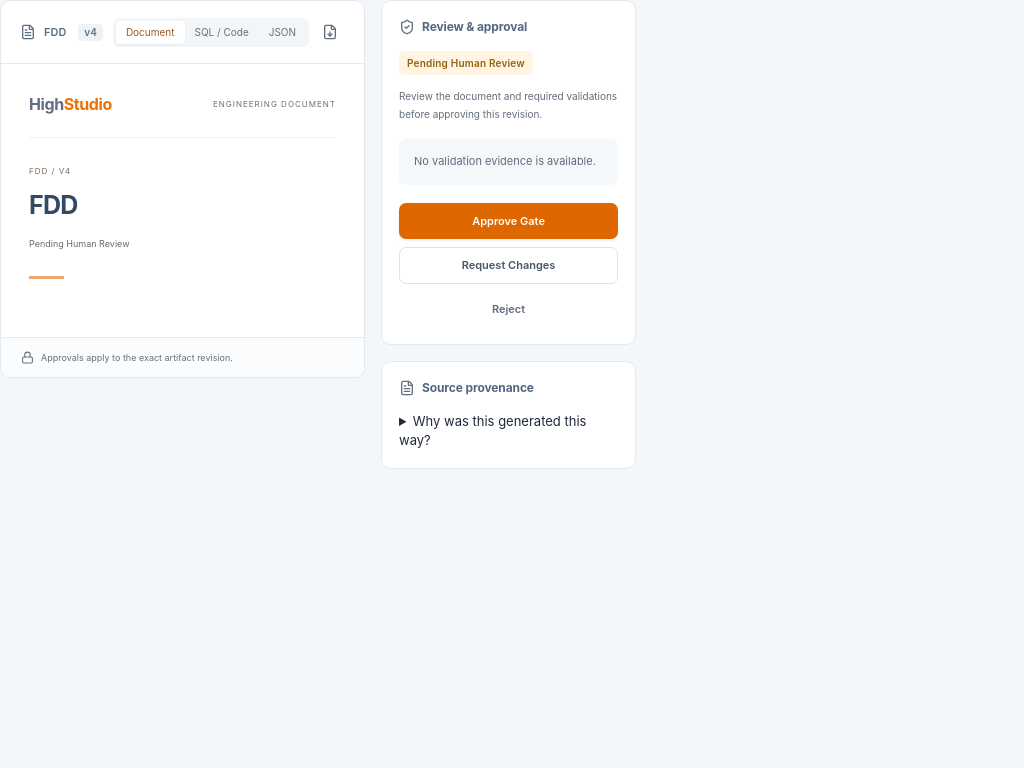
Test: Artifact Studio structured viewer › requires confirmation of the exact artifact revision before approval
Click the button "Approve Gate": (508,221) [399,203,618,239]
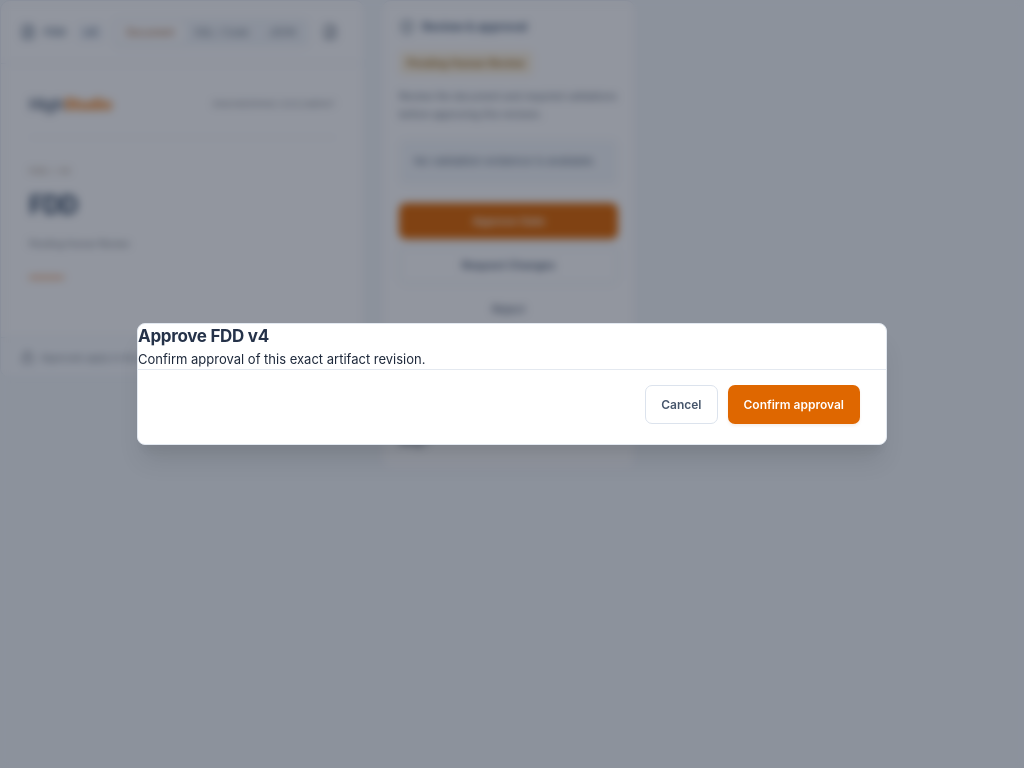
Expected: the dialog named "Approve artifact revision" shows "Approve FDD v4"
Click the button "Cancel": (681,404) [645,385,718,424]
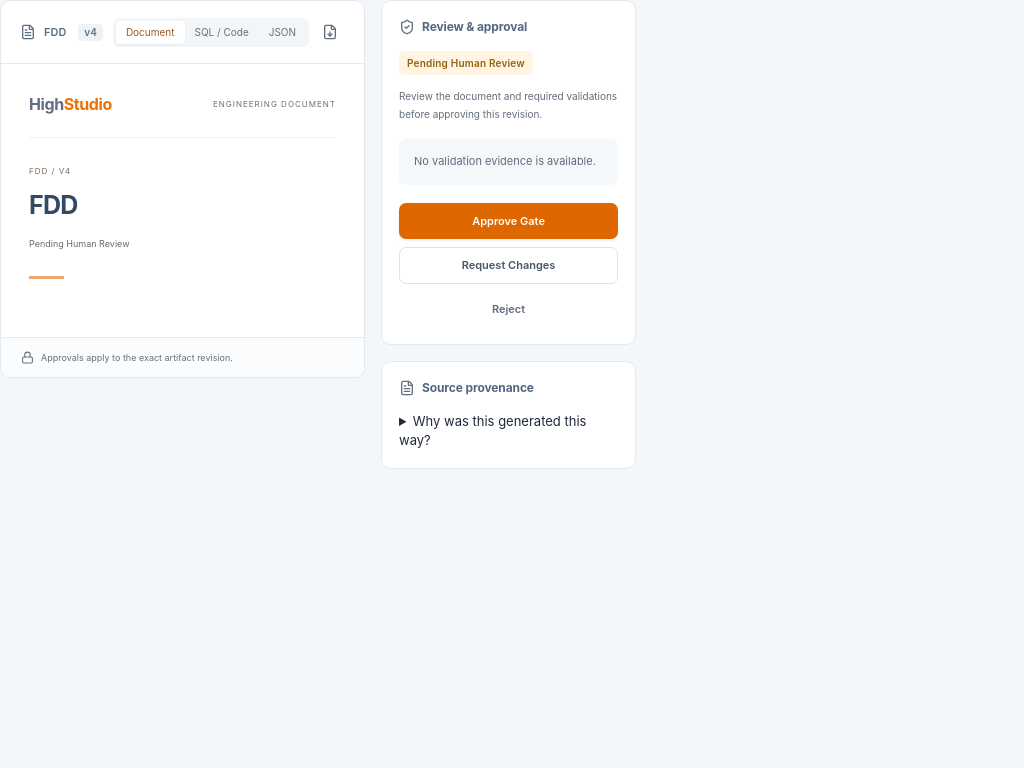
Expected: the dialog is gone
Click the button "Approve Gate": (508,221) [399,203,618,239]
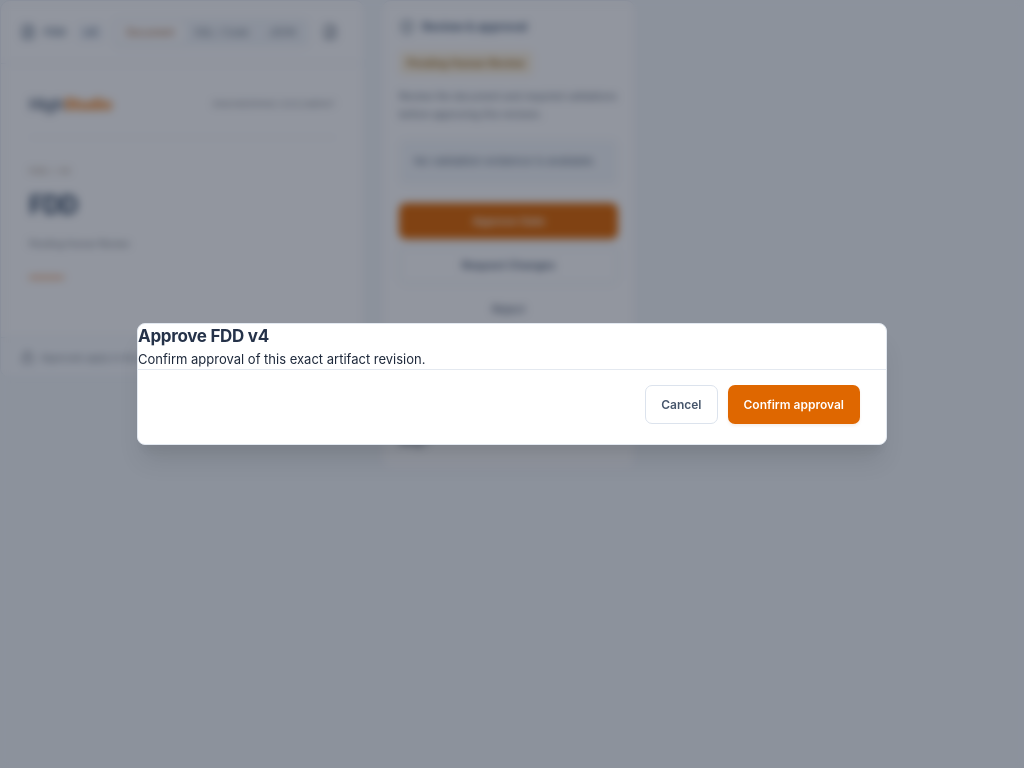
Click the button "Confirm approval": (794,404) [728,385,860,424]
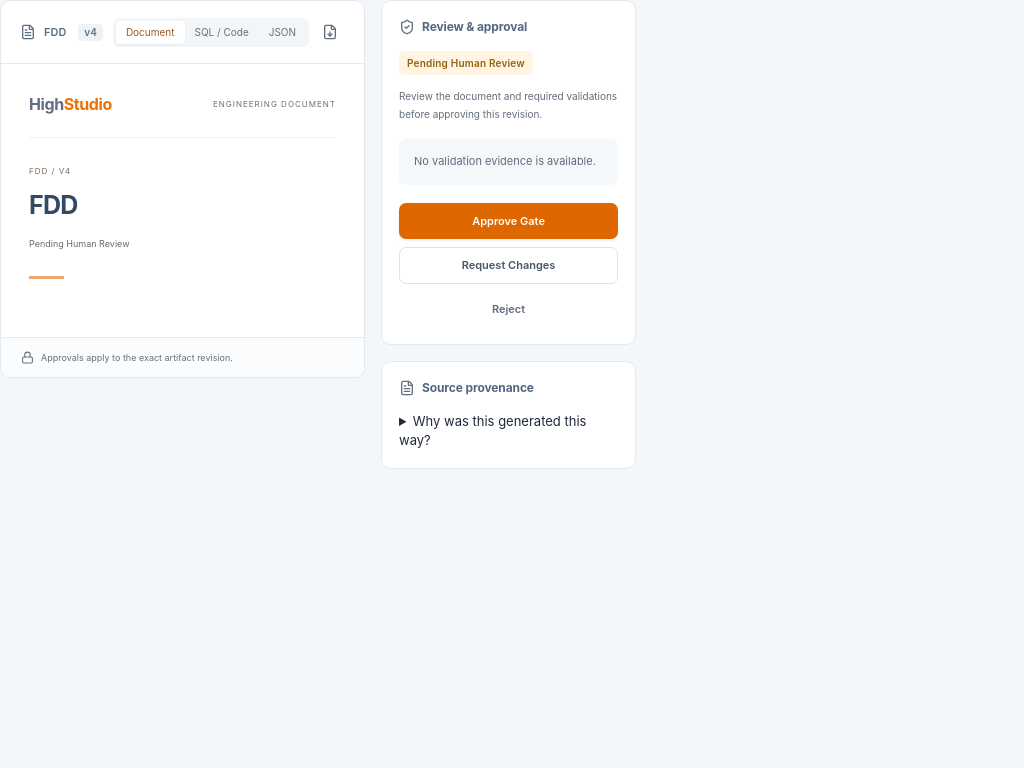
Expected: the dialog is gone
